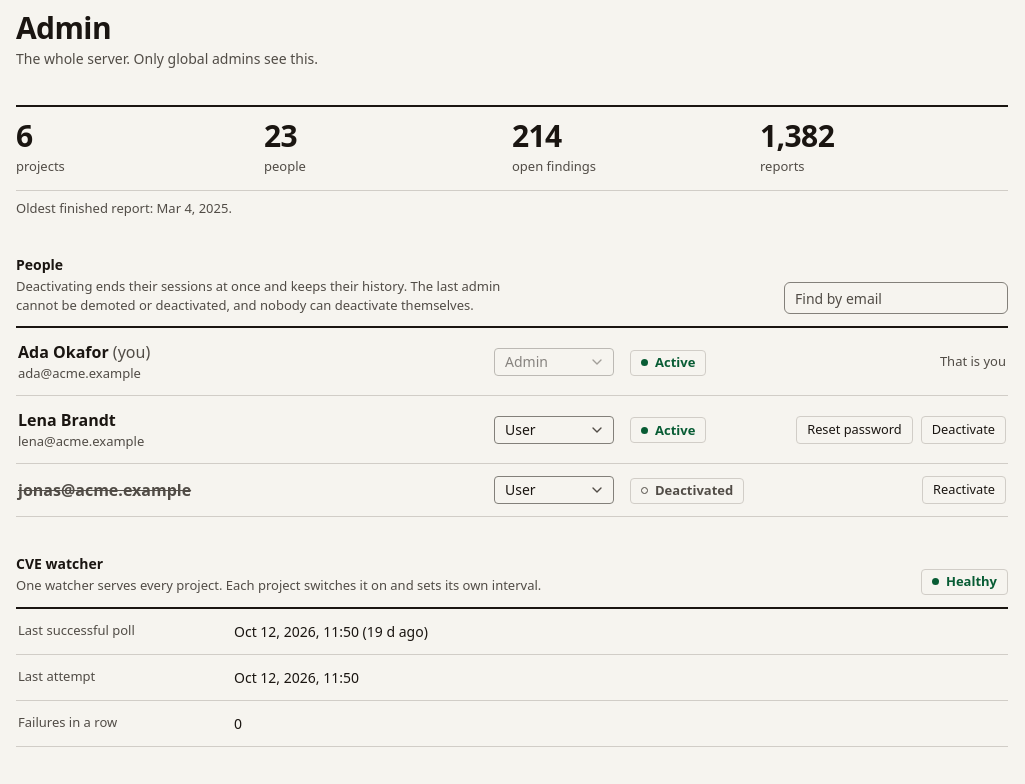
Test: Admin › people › relays the server's refusal to issue a reset link
Click the button with aria-label "Reset password for Lena Brandt". click: click(854, 430)
box: [796, 416, 913, 444]
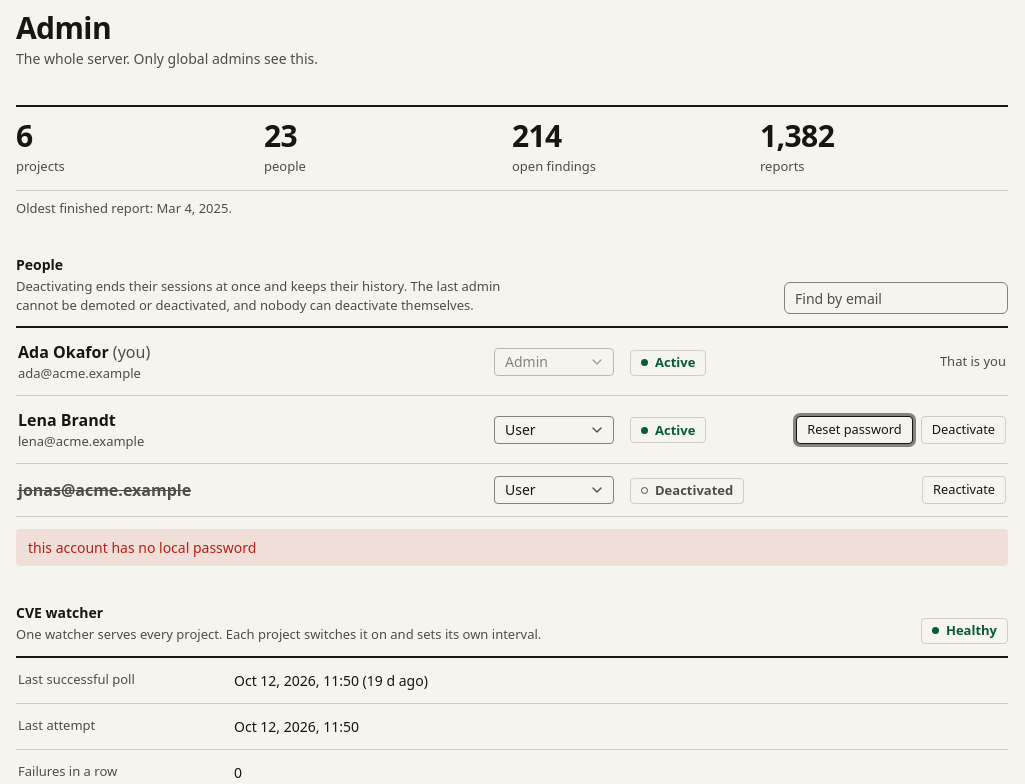
Expected: the message reads "this account has no local password", [28, 538, 256, 557]
